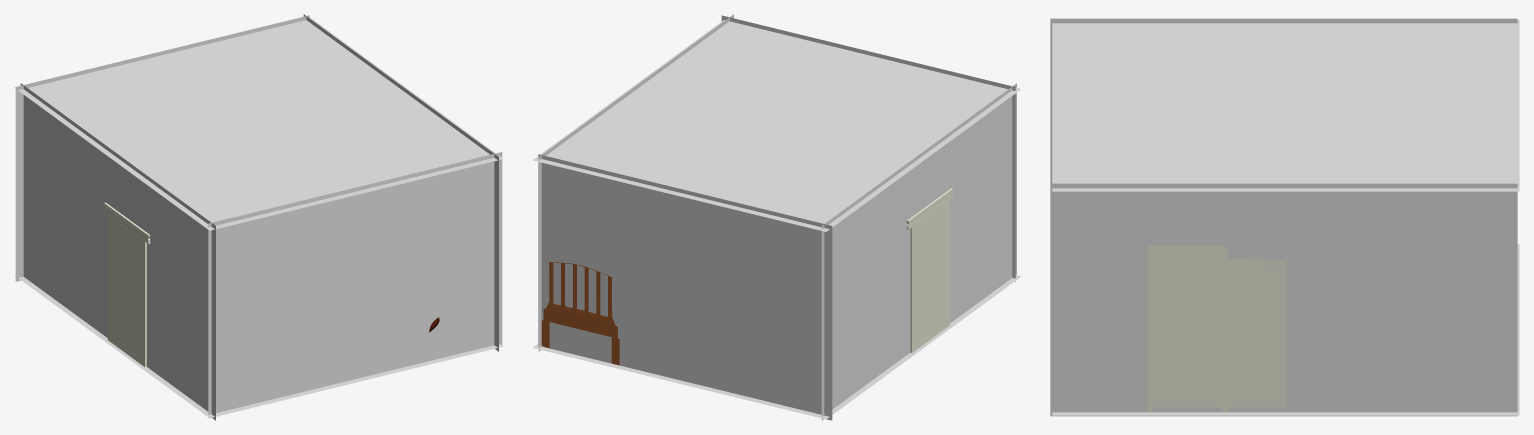
File: algunsObjetos.fbx
The picture shows the model from 3 angles, left to right: view 1: azimuth 30°, elevation 25°; view 2: azimuth 150°, elevation 25°; view 3: azimuth 270°, elevation 25°; orthographic projection. The views are drawn at different scales.
Parts seen in each view (by area): view 1: Plano, Chão.001, Plano.003, Cubo.002, Plano.001, Chão, Plano.002, Cubo; view 2: Chão.001, Plano.001, Plano.003, Cubo.002, Cama, Chão, Plano, Plano.002, Cubo; view 3: Plano.002, Chão.001, Cubo.008, Cubo.009, Plano.003, Chão.
Boxes of the visible parts, left/top/right/bottom form: Plano: left=208, top=152, right=502, bottom=418; Chão.001: left=14, top=17, right=502, bottom=230; Plano.003: left=20, top=83, right=215, bottom=420; Cubo.002: left=110, top=217, right=141, bottom=364; Plano.001: left=15, top=15, right=309, bottom=281; Chão: left=14, top=275, right=503, bottom=417; Plano.002: left=303, top=14, right=498, bottom=351; Cubo: left=104, top=202, right=150, bottom=367; Chão.001: left=532, top=20, right=1020, bottom=231; Plano.001: left=538, top=154, right=832, bottom=420; Plano.003: left=821, top=83, right=1016, bottom=420; Cubo.002: left=915, top=202, right=946, bottom=350; Cama: left=541, top=262, right=619, bottom=365; Chão: left=532, top=275, right=1021, bottom=419; Plano: left=721, top=15, right=1015, bottom=281; Plano.002: left=538, top=14, right=733, bottom=351; Cubo: left=906, top=188, right=952, bottom=352; Plano.002: left=1050, top=183, right=1517, bottom=416; Chão.001: left=1052, top=20, right=1519, bottom=191; Cubo.008: left=1147, top=245, right=1226, bottom=412; Cubo.009: left=1226, top=252, right=1286, bottom=412; Plano.003: left=1050, top=18, right=1517, bottom=183; Chão: left=1052, top=244, right=1519, bottom=415.
Size of the model in its own units: 23773 by 14826 by 27069.
